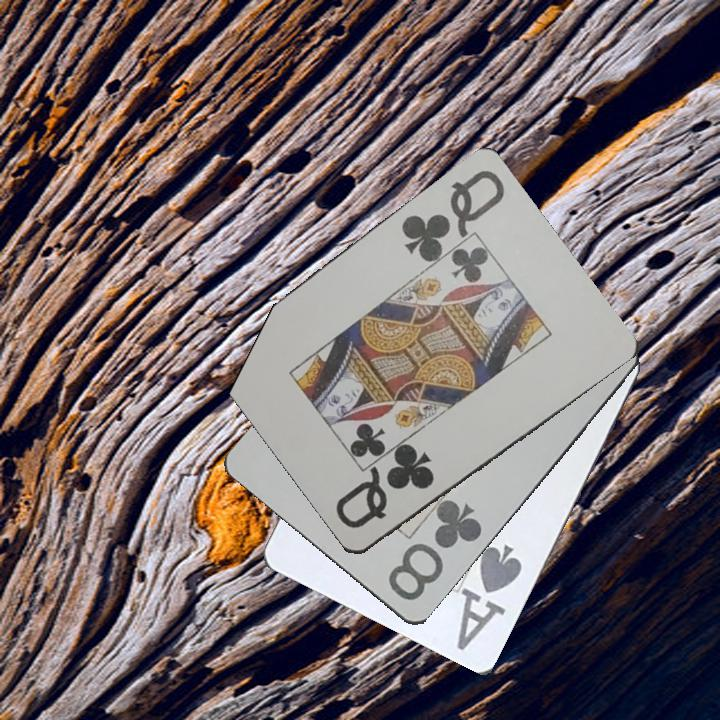8c: (384, 496, 486, 606)
As: (453, 541, 525, 654)
Qc: (397, 165, 508, 266), (331, 444, 438, 533)
